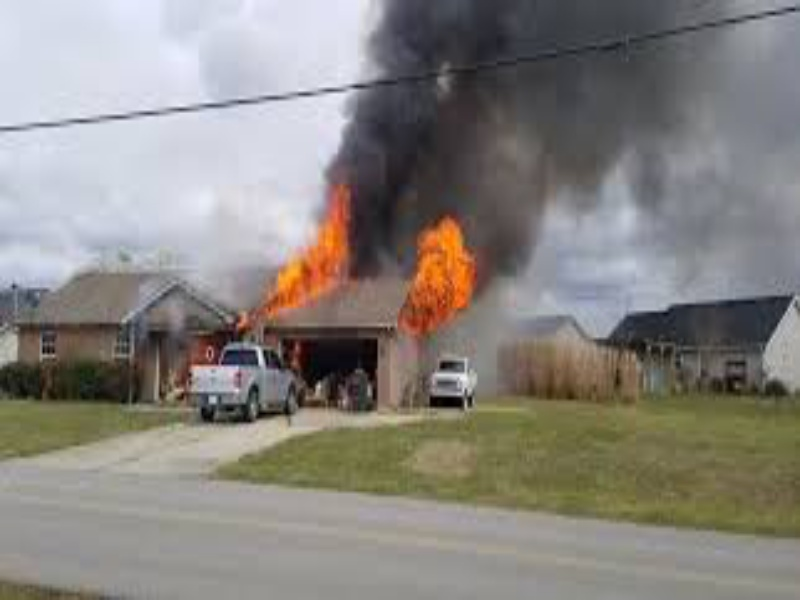fire: (390, 217, 476, 332), (284, 167, 365, 269), (248, 284, 297, 333), (269, 268, 355, 288), (297, 291, 331, 314)
